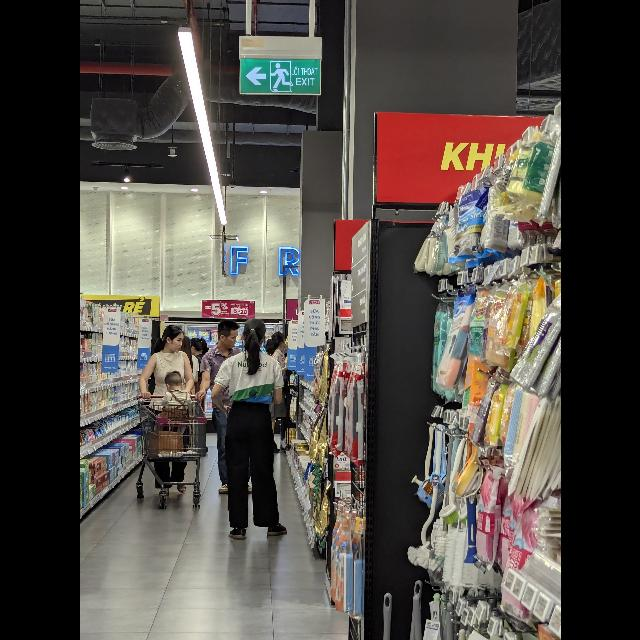exit: (239, 58, 321, 94)
